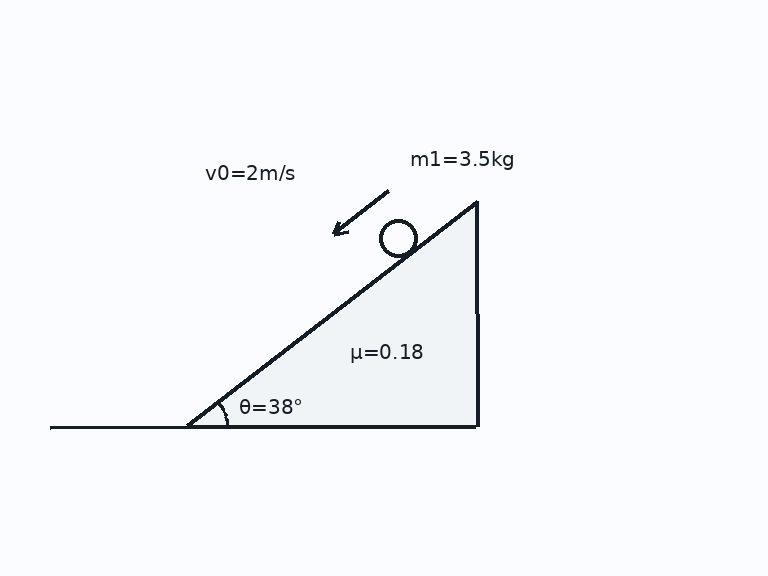ball: (377, 217, 419, 259)
ramp: (185, 199, 478, 429)
